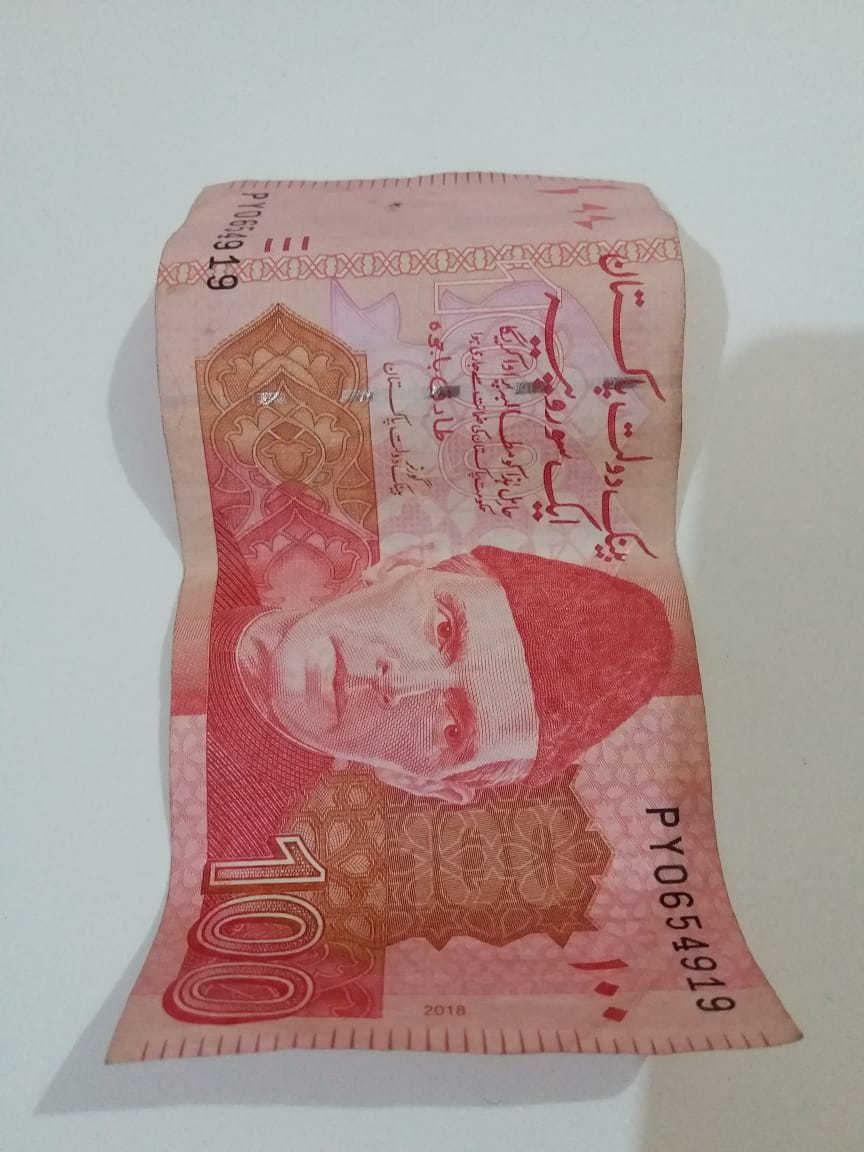100 rupee: (118, 162, 819, 1052)
